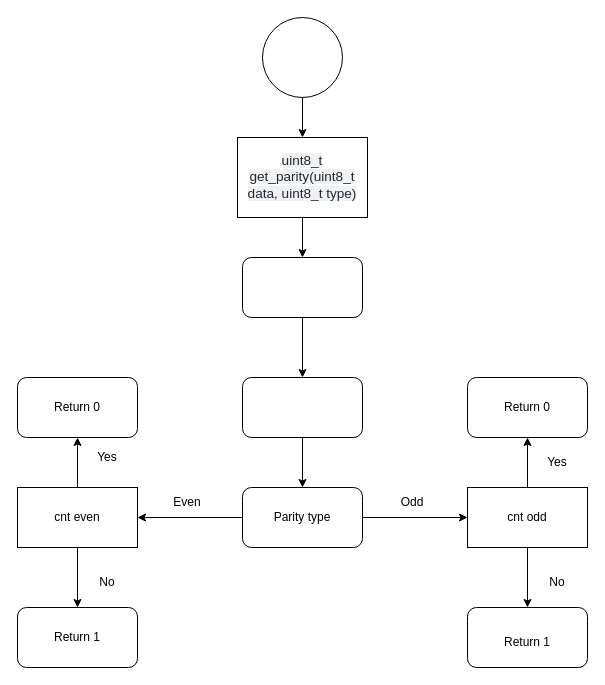
Image size: 605x685. Some labels were removed from this diagram. Here are the shapes that lost their labels. From the top down, the box of each, then its label:
(262, 16, 342, 98): start
(242, 256, 362, 318): Initialize counter
(242, 376, 362, 438): Count bits
